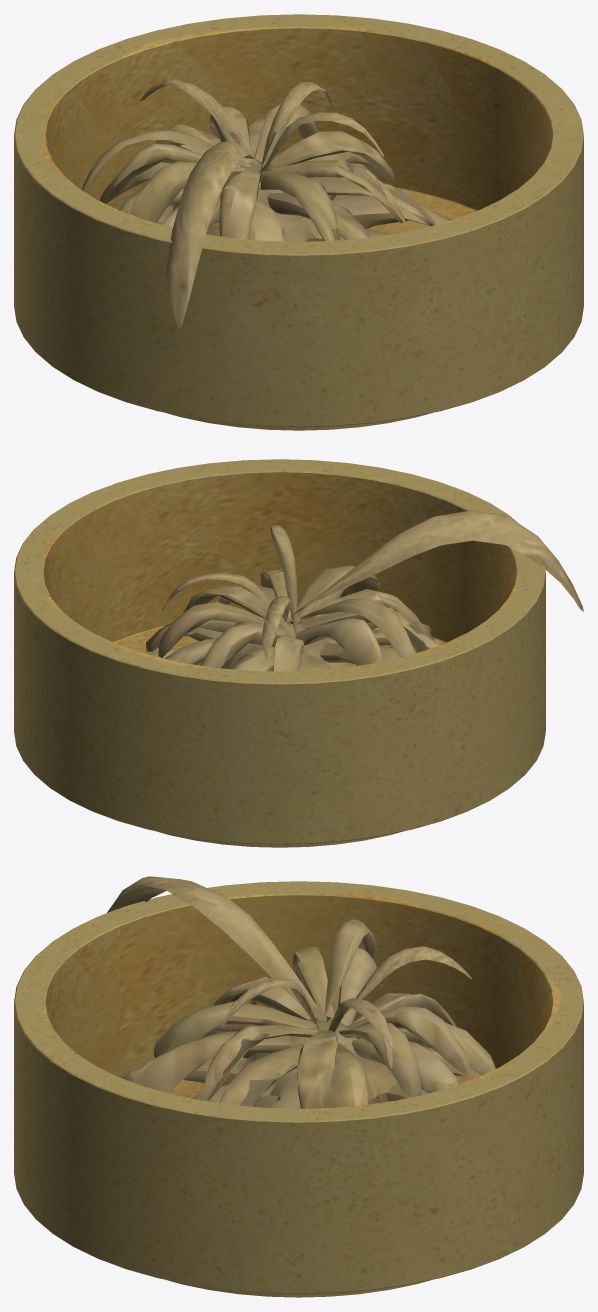
The model's file is basket.dae.
3 renders of one model, top to bottom at view 1: azimuth 30°, elevation 25°; view 2: azimuth 150°, elevation 25°; view 3: azimuth 270°, elevation 25°, orthographic. The views are drawn at different scales.
Visible parts, largest first — view 1: basket_2, plant; view 2: basket_2, plant; view 3: basket_2, plant.
Part boxes in pixels (x1,y1,x2,y2): basket_2: (14,14,583,430); plant: (82,79,451,328); basket_2: (14,459,545,847); plant: (146,510,583,671); basket_2: (14,881,583,1297); plant: (107,876,495,1108).
Size of the model in its own units: 0.26 by 0.1251 by 0.26.
Materials: 2 (2 with a texture image).
